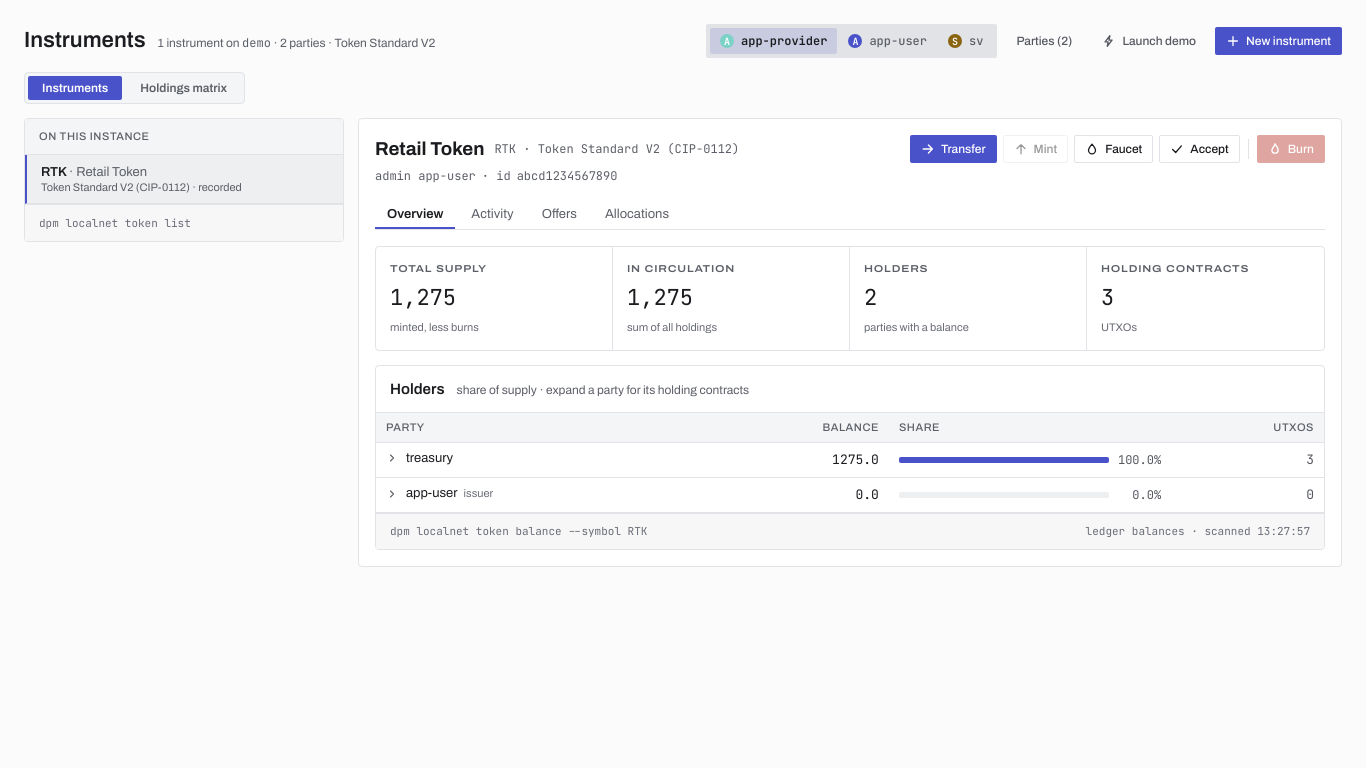
Scenario: TokensScreen › shows a preview validation error and disables transfer
Step 1. Click the button "Transfer" → (953, 149), box [910,135,997,163]
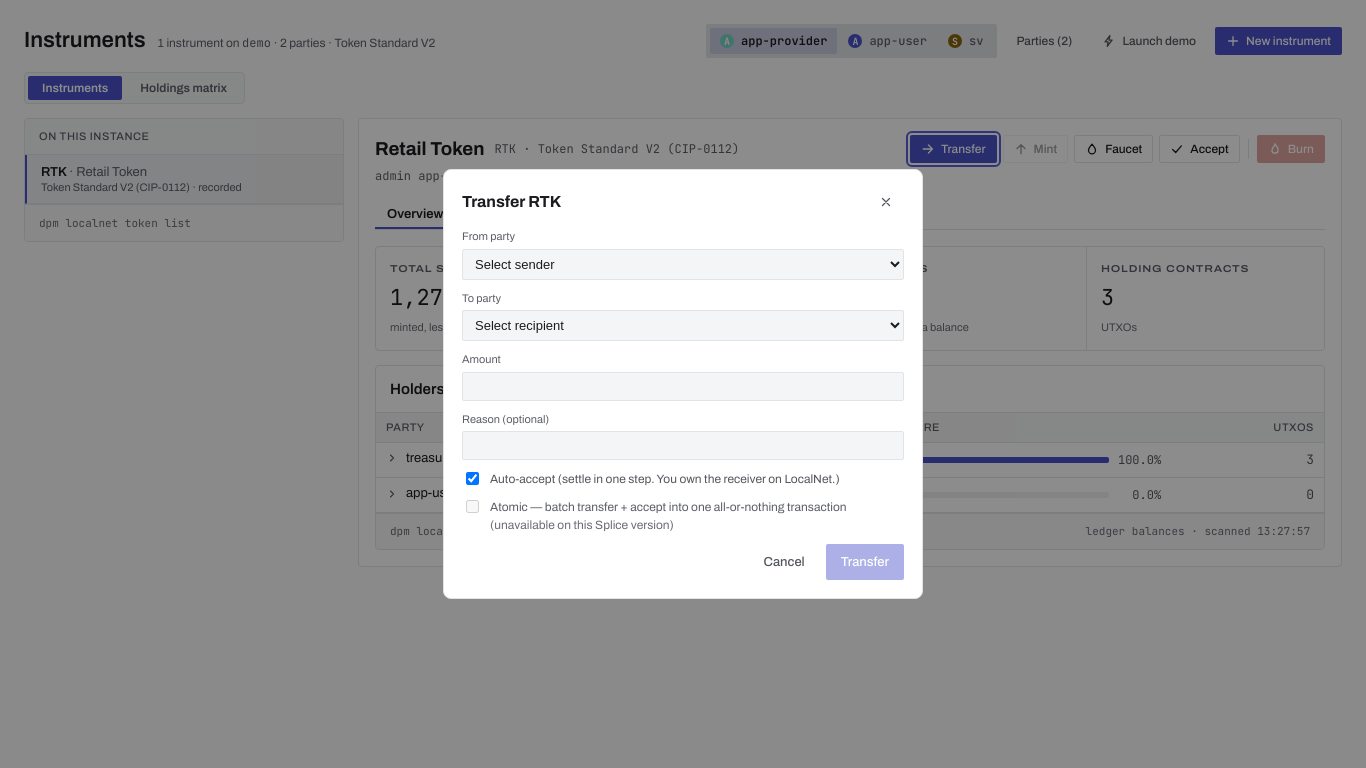
Step 2. Select "treasury · bob" in the dropdown labelled "From party" → (683, 264), box [462,248,904,280]
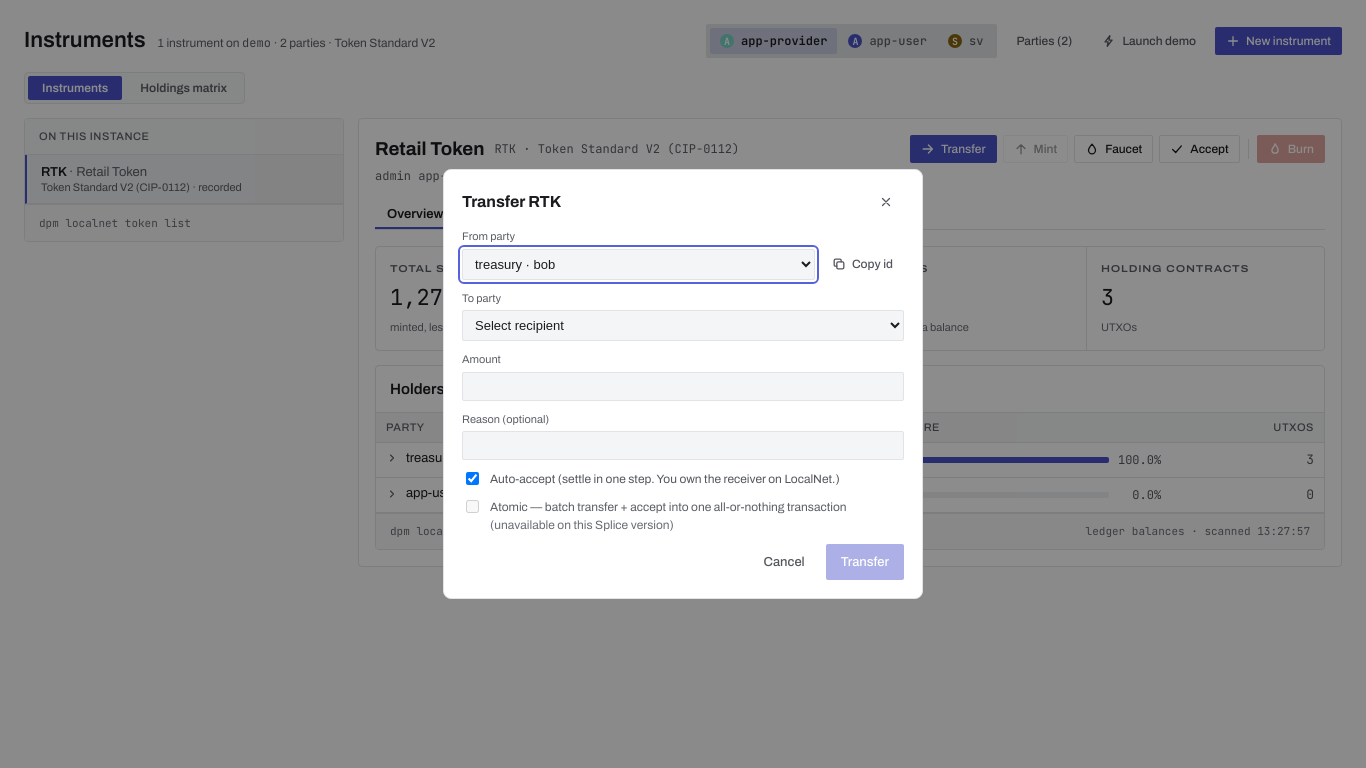
Step 3. Select "app-user · alice" in the dropdown labelled "To party" → (683, 326), box [462,310,904,341]
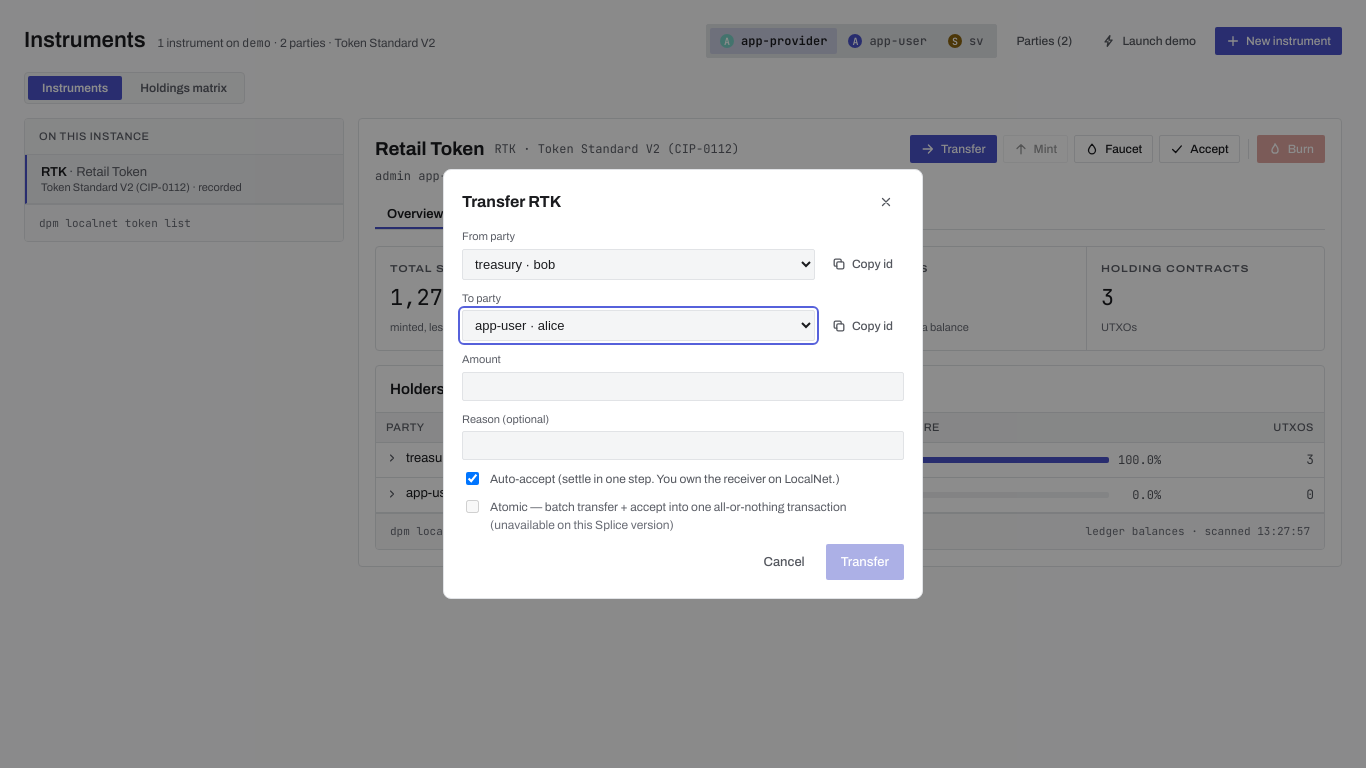
Step 4. Type "browser transfer" into the field labelled "Amount" → (683, 386), box [462,372,904,400]
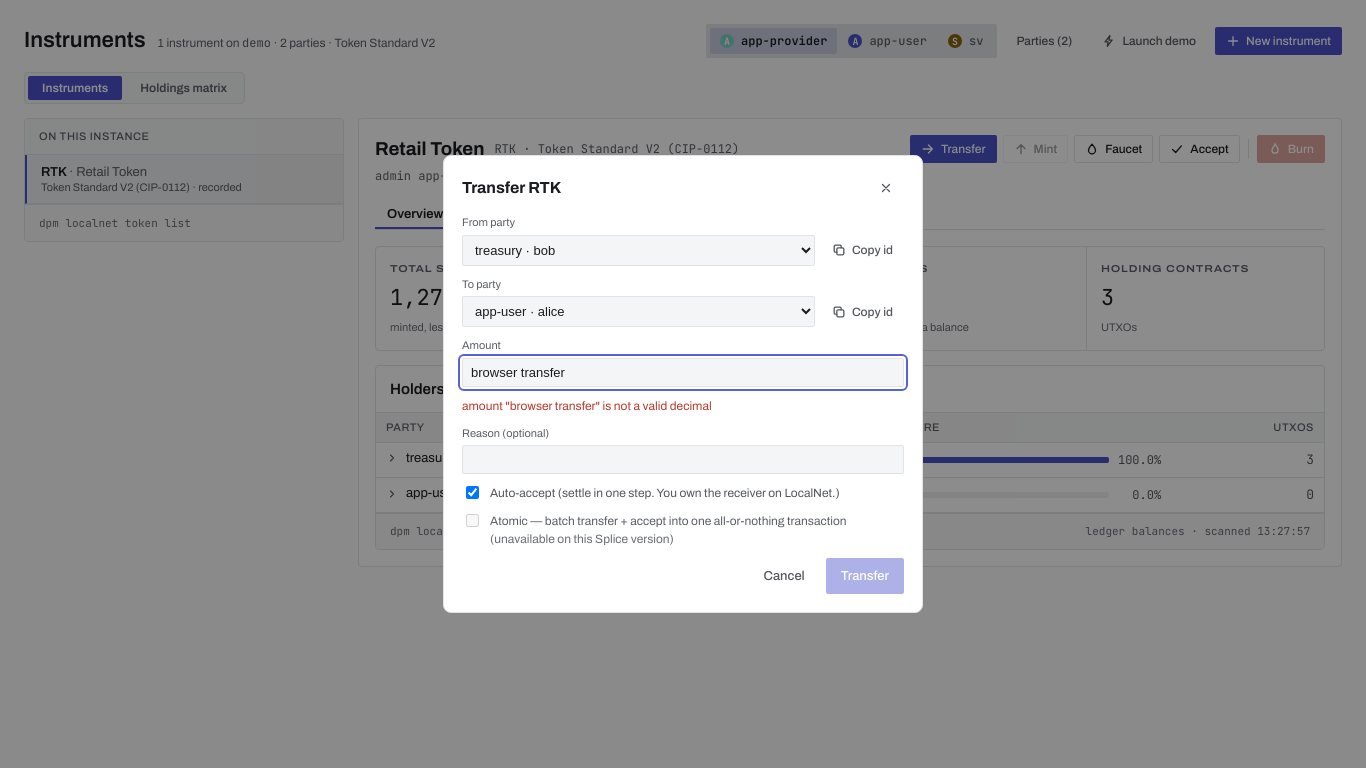
Now the button "Transfer" is disabled, box [826,558,904,594]
Now the message shows "not a valid decimal", box [462,398,712,412]
